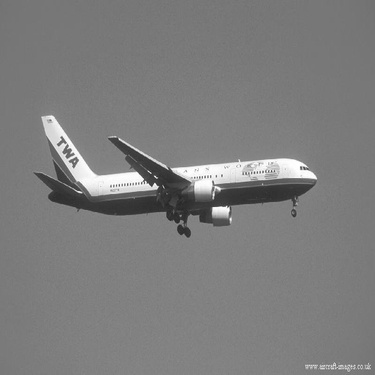car: (13, 90, 327, 248)
